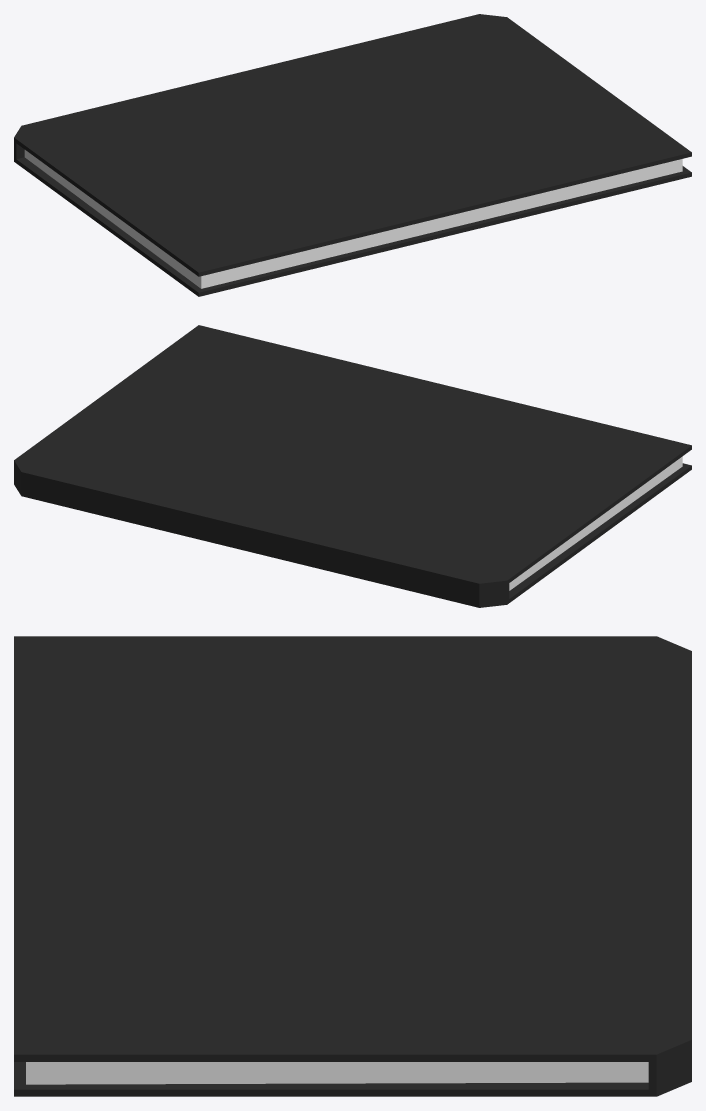
File: Note Book_1.fbx
3 renders of one model, top to bottom at view 1: azimuth 30°, elevation 25°; view 2: azimuth 150°, elevation 25°; view 3: azimuth 270°, elevation 25°, orthographic. The views are drawn at different scales.
Parts seen in each view (by area): view 1: Note Book_1; view 2: Note Book_1; view 3: Note Book_1.
Part boxes in pixels (left/top/right/bottom): Note Book_1: left=14, top=14, right=691, bottom=296; Note Book_1: left=14, top=325, right=691, bottom=607; Note Book_1: left=14, top=636, right=691, bottom=1096.
Size of the model in its own units: 0.2067 by 0.0097 by 0.1415.
